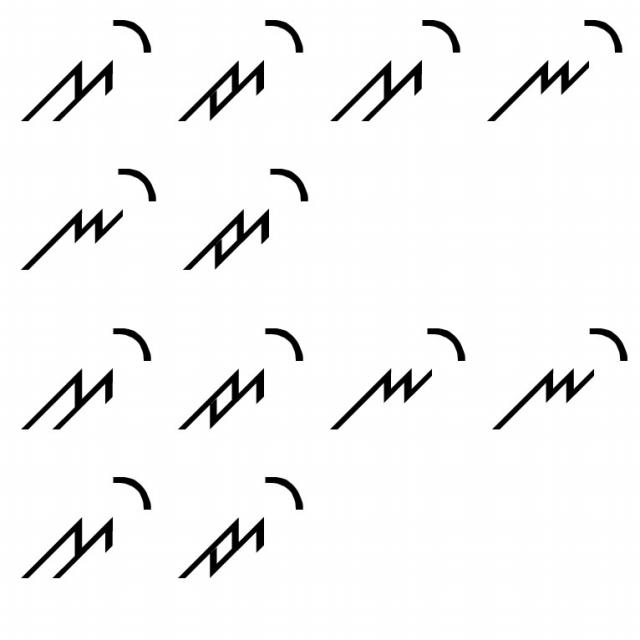jay: (180, 459, 312, 588), (175, 159, 313, 277), (175, 316, 308, 438), (174, 14, 305, 126)
nyay: (330, 319, 478, 440), (491, 315, 629, 438), (19, 160, 160, 279), (489, 10, 628, 125)
say: (18, 5, 156, 131), (22, 464, 154, 589), (19, 315, 153, 434), (330, 14, 461, 123)
